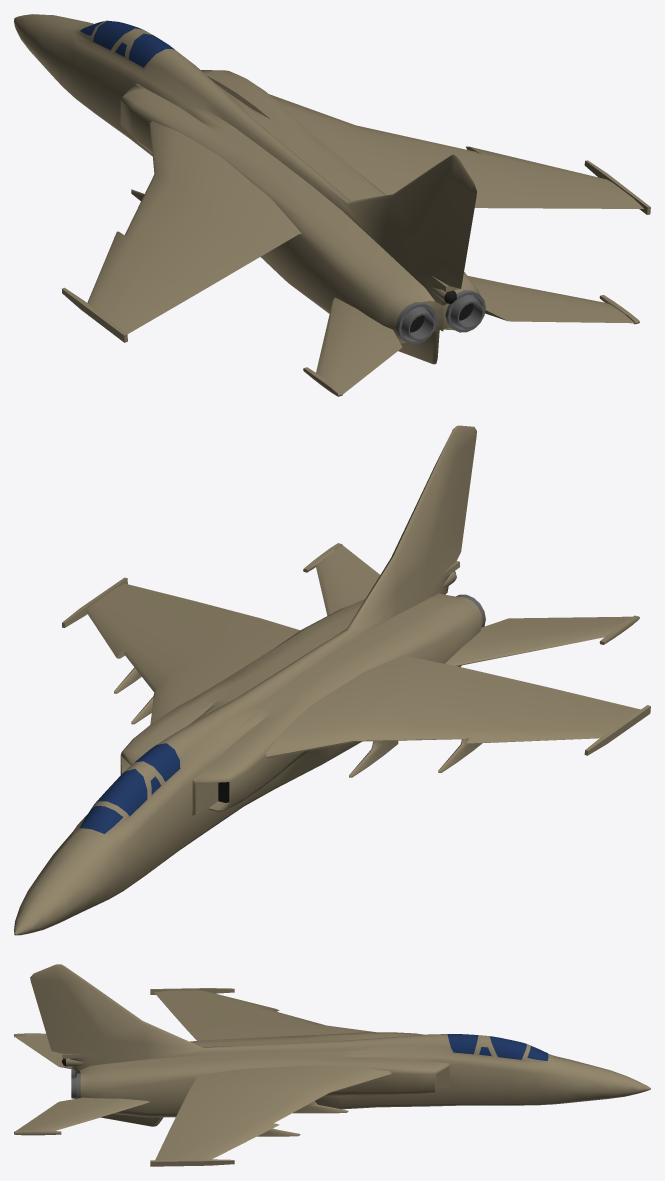
The model's file is XIAN_JH7.glb.
3 renders of one model, top to bottom at view 1: azimuth 30°, elevation 25°; view 2: azimuth 150°, elevation 25°; view 3: azimuth 270°, elevation 25°, orthographic. The views are drawn at different scales.
Parts seen in each view (by area): view 1: Xian_JH7; view 2: Xian_JH7; view 3: Xian_JH7.
Part boxes in pixels (left/top/right/bottom): Xian_JH7: left=14, top=14, right=650, bottom=396; Xian_JH7: left=14, top=425, right=650, bottom=935; Xian_JH7: left=14, top=964, right=650, bottom=1166.
Bounding box in the file's own units: 13.5 × 5.91 × 21.
